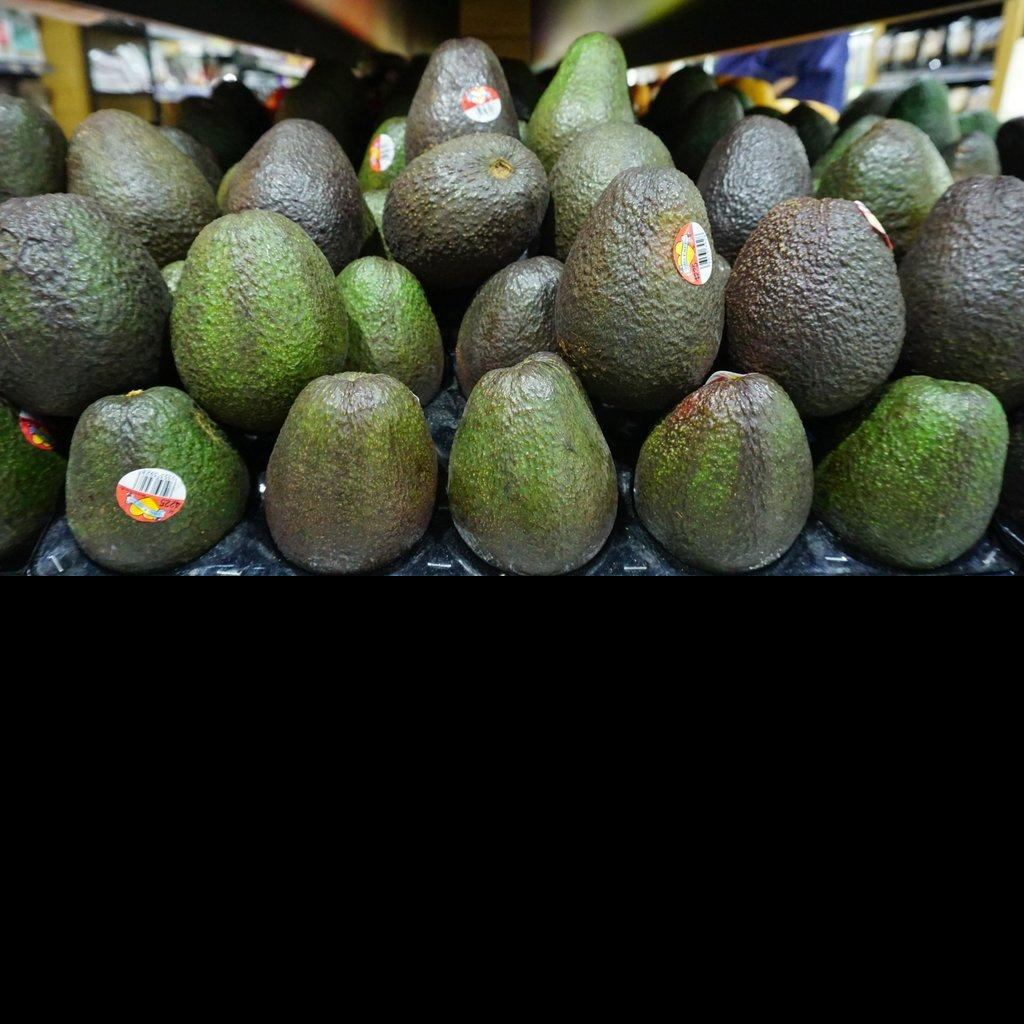almost: (553, 167, 723, 400), (1, 193, 175, 418), (66, 108, 223, 271), (455, 255, 566, 402)
ripe: (724, 196, 905, 413), (901, 174, 1024, 401), (382, 133, 552, 285), (224, 119, 361, 277), (696, 113, 811, 267), (404, 36, 521, 167)
unripe: (171, 207, 348, 435), (813, 375, 1009, 570), (448, 352, 617, 576), (635, 373, 813, 573), (65, 385, 253, 574), (266, 373, 437, 574), (815, 118, 955, 265), (547, 122, 676, 259), (335, 256, 445, 409), (521, 32, 634, 176), (357, 115, 407, 192)
